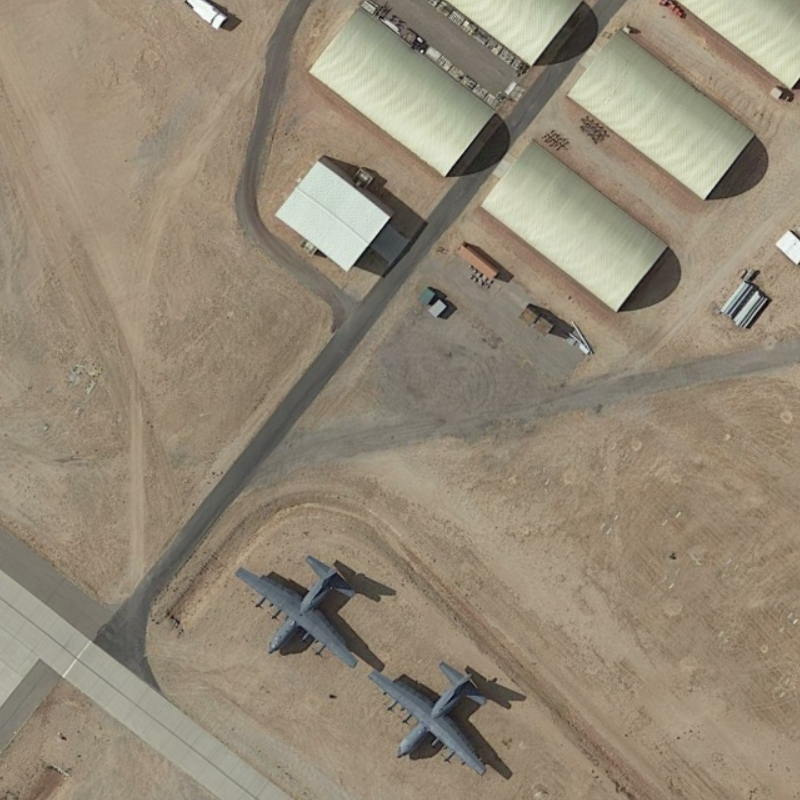A2: (225, 545, 370, 674), (366, 655, 498, 786)
